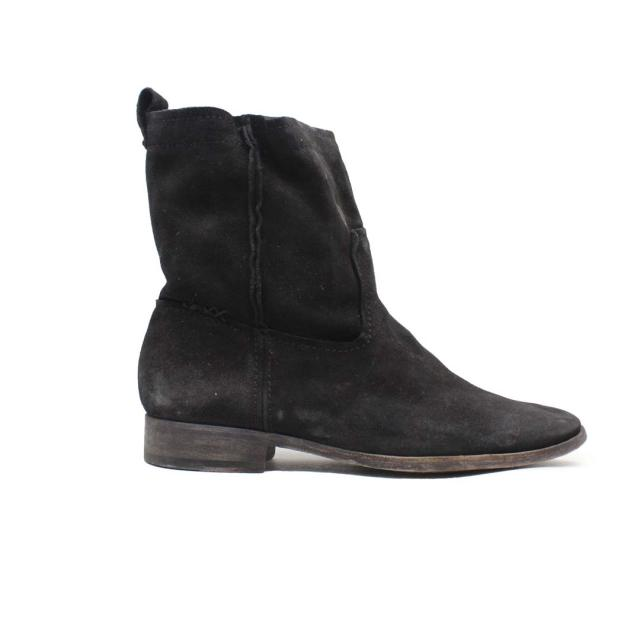heel: (137, 88, 249, 430)
midsole: (144, 417, 586, 475)
uppersole: (218, 109, 577, 448)
